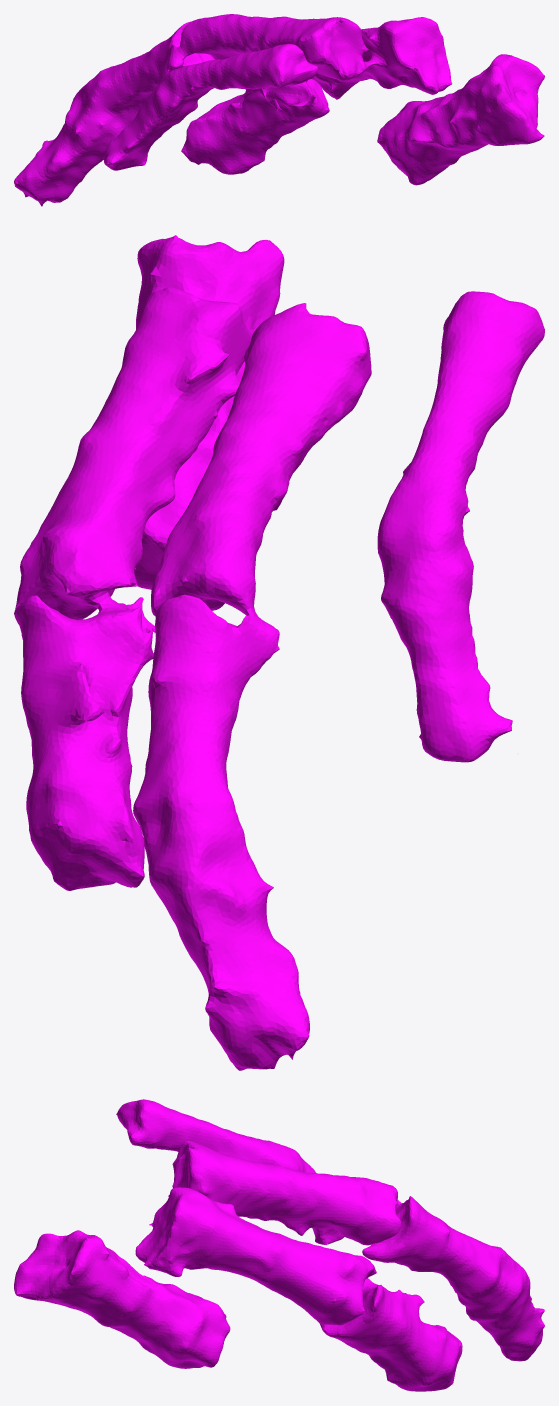
Rendered from pedphalL.glb.
3 renders of one model, top to bottom at view 1: azimuth 30°, elevation 25°; view 2: azimuth 150°, elevation 25°; view 3: azimuth 270°, elevation 25°, orthographic. The views are drawn at different scales.
Visible parts, largest first — view 1: pedphalL; view 2: pedphalL; view 3: pedphalL.
Part boxes in pixels (left/top/right/bottom): pedphalL: left=14, top=14, right=544, bottom=206; pedphalL: left=14, top=235, right=544, bottom=1070; pedphalL: left=14, top=1099, right=544, bottom=1391.
Bounding box in the file's own units: 0.00805 × 0.00658 × 0.0111.
